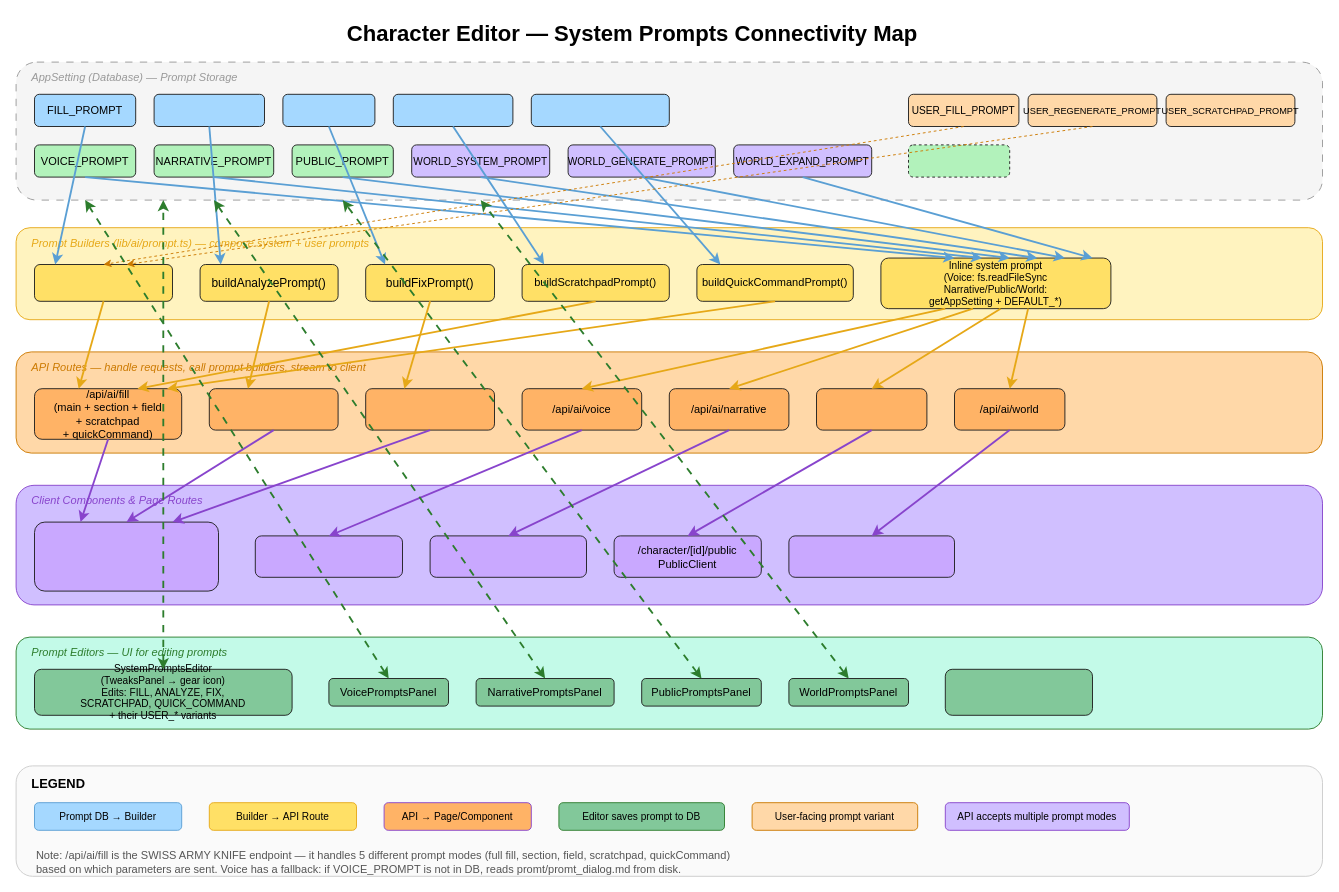
The diagram is 1339 pixels wide and 892 high, and some of its shapes have lost their labels. The shapes that lost their labels are listed below. From the top down, each one's centre as x and y in pixels, then its label:
the point at 208,109: ANALYZE_PROMPT
the point at 328,109: FIX_PROMPT
the point at 452,109: SCRATCHPAD_PROMPT
the point at 599,109: QUICK_COMMAND_PROMPT
the point at 959,160: promt/promt_dialog.md (fallback file)
the point at 103,282: buildFillPrompt()
the point at 273,409: /api/ai/analyze
the point at 429,409: /api/ai/analyze/fix
the point at 871,409: /api/ai/public
the point at 126,556: /character/[id] CharacterForm + CharacterSection + CharacterSidebar
the point at 328,556: /character/[id]/voice VoiceClient
the point at 507,556: /character/[id]/narrative NarrativeClient
the point at 871,556: /project/[id]/world/[eid] WorldElementForm
the point at 1018,691: PromptsPanel (CharacterForm → «Prompts» button)
